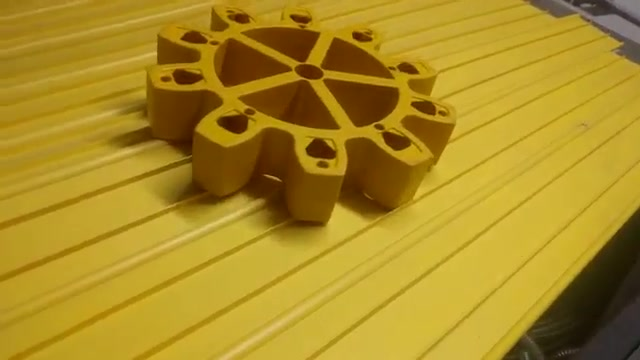gear: (130, 1, 465, 245)
